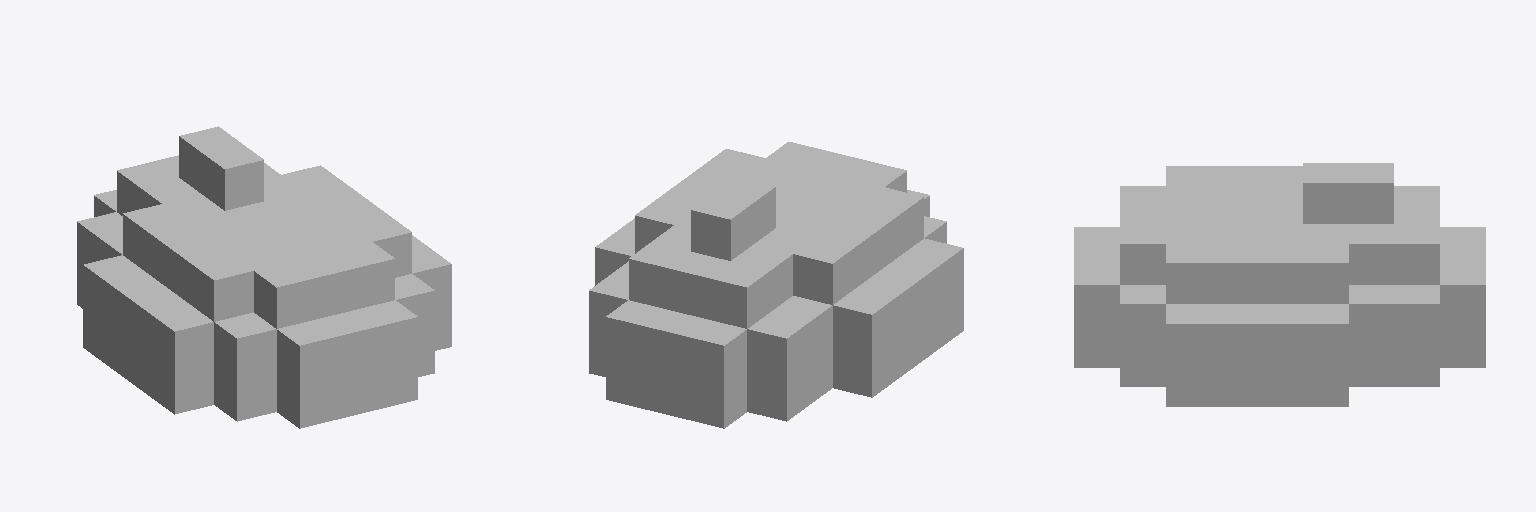
File: Mouse.obj
The picture shows the model from 3 angles: view 1: azimuth 30°, elevation 25°; view 2: azimuth 150°, elevation 25°; view 3: azimuth 270°, elevation 25°; orthographic projection.
Parts seen in each view (by area): view 1: object 1; view 2: object 1; view 3: object 1.
Part boxes in pixels (x1,y1,x2,y2): object 1: (77, 126, 451, 428); object 1: (589, 142, 963, 428); object 1: (1074, 163, 1485, 406).
Size of the model in its own units: 0.7 by 0.4 by 0.9.